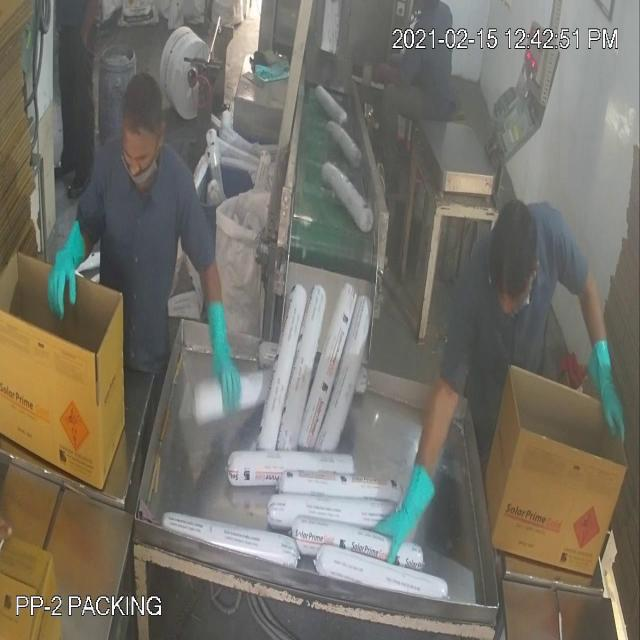Gloves: (39, 113, 612, 510)
